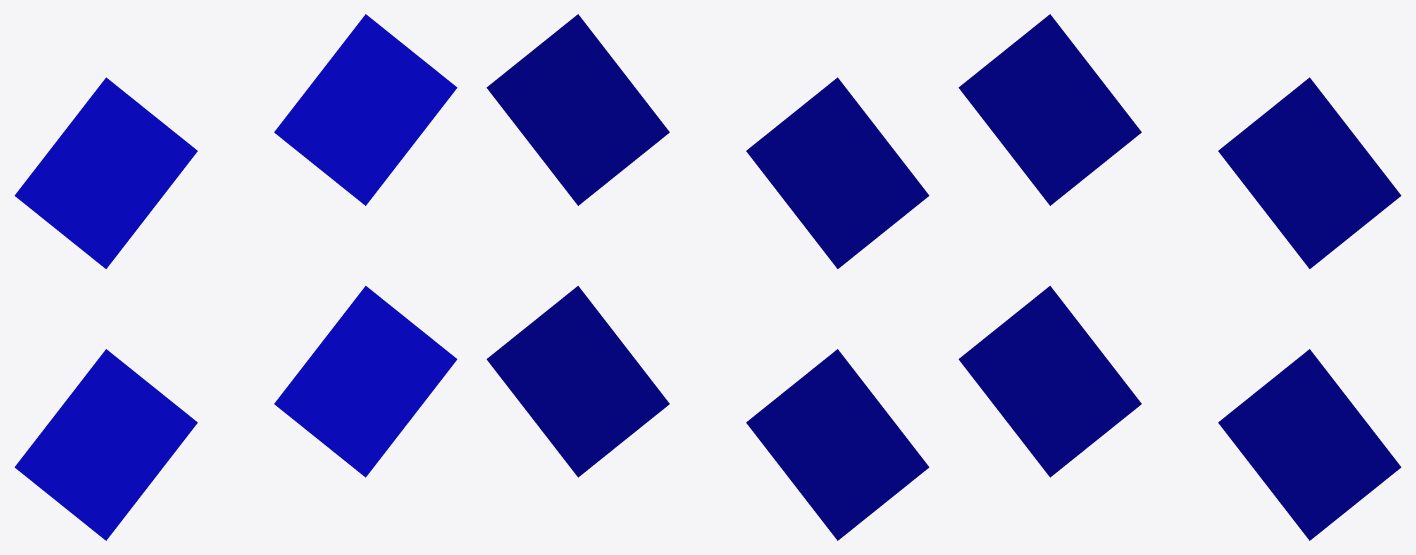
Rendered from _reference_instances_of_same_node.dae.
3 views of the same model, side by side, from view 1: azimuth 30°, elevation 25°; view 2: azimuth 150°, elevation 25°; view 3: azimuth 330°, elevation 25° (orthographic).
Parts seen in each view (by area): view 1: cube1_node, cube2_node, cube3_node, cube4_node; view 2: cube1_node, cube2_node, cube3_node, cube4_node; view 3: cube1_node, cube2_node, cube3_node, cube4_node.
Boxes of the visible parts, x1,y1,x2,y2 form: cube1_node: (14, 77, 197, 268); cube2_node: (274, 14, 457, 205); cube3_node: (14, 349, 197, 540); cube4_node: (274, 286, 457, 477); cube1_node: (746, 77, 929, 268); cube2_node: (486, 14, 669, 205); cube3_node: (746, 349, 929, 540); cube4_node: (486, 286, 669, 477); cube1_node: (958, 14, 1141, 205); cube2_node: (1218, 77, 1401, 268); cube3_node: (958, 286, 1141, 477); cube4_node: (1218, 349, 1401, 540).
Bounding box in the file's own units: 171 × 171 × 0.
